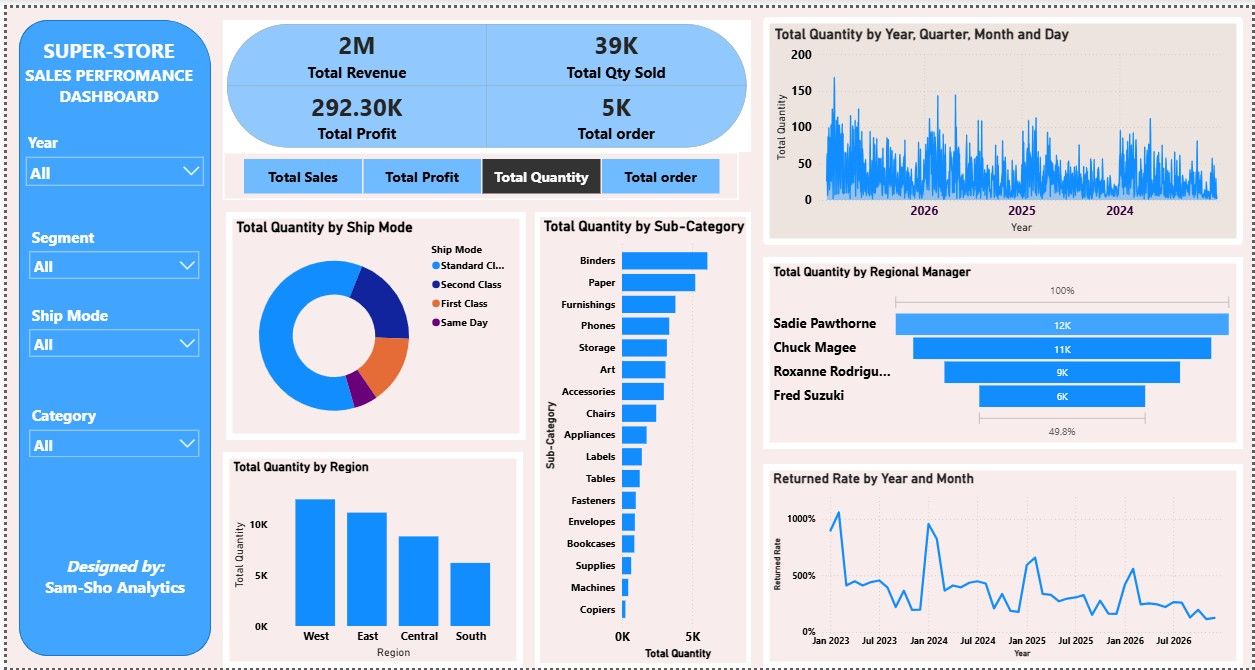

This screenshot's page, from the dashboard's own definition file:
{"tool":"powerbi","page":{"name":"Page 1","canvas":[1660,880],"ordinal":0},"visuals":[{"type":"shape","box":[16,16,256,848],"z":0},{"type":"cardVisual","fields":{"Data":["Fact_sales.Total Sales","Fact_sales.Total Profit","Fact_sales.Total Quantity","Fact_sales.Total order"]},"box":[288,16,704,176],"z":1000},{"type":"slicer","fields":{"Values":["DimDate.Date.Variation.Date Hierarchy.Year","DimDate.Date.Variation.Date Hierarchy.Quarter","DimDate.Date.Variation.Date Hierarchy.Month","DimDate.Date.Variation.Date Hierarchy.Day"]},"box":[16,160,256,96],"z":2000},{"type":"columnChart","fields":{"Y":["Fact_sales.Total order"],"Category":["Dim_People.Region"]},"box":[288,592,400,288],"z":3000},{"type":"clusteredBarChart","fields":{"Y":["Fact_sales.Total order"],"Category":["Dim_product.Sub-Category"]},"box":[704,272,288,608],"z":4000},{"type":"lineChart","fields":{"Y":["Fact_sales.Total order"],"Category":["DimDate.Date.Variation.Date Hierarchy.Year","DimDate.Date.Variation.Date Hierarchy.Quarter","DimDate.Date.Variation.Date Hierarchy.Month","DimDate.Date.Variation.Date Hierarchy.Day"]},"box":[1007.3,11.9,640,304],"z":5000},{"type":"funnel","fields":{"Y":["Fact_sales.Total order"],"Category":["Dim_People.Regional Manager"]},"box":[1007.3,331.9,640,256],"z":6000},{"type":"lineChart","fields":{"Y":["DimDate.Returned Rate"],"Category":["DimDate.Date.Variation.Date Hierarchy.Year","DimDate.Date.Variation.Date Hierarchy.Month"]},"box":[1008,608,640,272],"z":7000},{"type":"slicer","fields":{"Values":["Parameter.Parameter"]},"box":[288,192,688,64],"z":8000},{"type":"donutChart","fields":{"Y":["Fact_sales.Total order"],"Category":["Dim_shipmode.Ship Mode"]},"box":[292,272,400,304],"z":9000},{"type":"textbox","box":[32,32,208,112],"z":10000},{"type":"slicer","fields":{"Values":["Dim_Customer.Segment"]},"box":[19.9,285.9,246.1,104.4],"z":11000},{"type":"slicer","fields":{"Values":["Dim_shipmode.Ship Mode"]},"box":[19.9,390.3,246.1,101.9],"z":12000},{"type":"slicer","fields":{"Values":["Dim_product.Category"]},"box":[19.9,524.6,246.1,101.9],"z":13000},{"type":"textbox","box":[48,704,176,80],"z":14000}]}

Visuals, with their boxes in screenshot pixels (x1, y1, x2, y2), scaled from the page's 1660x880 canvas onto the 1255x670 screenshot:
shape: 12,12,206,658
cardVisual - Fact_sales.Total Sales x Fact_sales.Total Profit: 218,12,750,146
slicer - DimDate.Date.Variation.Date Hierarchy.Year x DimDate.Date.Variation.Date Hierarchy.Quarter: 12,122,206,195
columnChart - Fact_sales.Total order x Dim_People.Region: 218,451,520,669
clusteredBarChart - Fact_sales.Total order x Dim_product.Sub-Category: 532,207,750,669
lineChart - Fact_sales.Total order x DimDate.Date.Variation.Date Hierarchy.Year: 762,9,1245,241
funnel - Fact_sales.Total order x Dim_People.Regional Manager: 762,253,1245,448
lineChart - DimDate.Returned Rate x DimDate.Date.Variation.Date Hierarchy.Year: 762,463,1246,669
slicer - Parameter.Parameter: 218,146,738,195
donutChart - Fact_sales.Total order x Dim_shipmode.Ship Mode: 221,207,523,439
textbox: 24,24,181,110
slicer - Dim_Customer.Segment: 15,218,201,297
slicer - Dim_shipmode.Ship Mode: 15,297,201,375
slicer - Dim_product.Category: 15,399,201,477
textbox: 36,536,169,597
